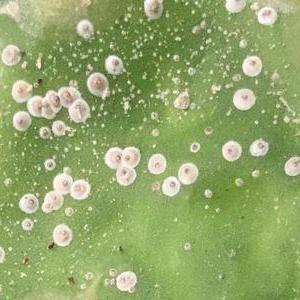Femea: (114, 165, 133, 181), (120, 149, 137, 166), (236, 89, 253, 105), (246, 57, 259, 77), (224, 144, 240, 160), (12, 115, 30, 129), (44, 194, 64, 206), (57, 175, 73, 190), (179, 167, 193, 183), (283, 159, 299, 173), (258, 10, 273, 24), (163, 177, 178, 191), (22, 197, 37, 211), (152, 156, 164, 173), (107, 150, 120, 164), (107, 59, 120, 71), (38, 128, 53, 138), (253, 141, 264, 154), (14, 84, 25, 97), (78, 24, 90, 34), (43, 160, 55, 168)
Linfa: (154, 87, 166, 100), (83, 62, 97, 72), (164, 85, 178, 95), (121, 102, 132, 113), (109, 84, 121, 94), (73, 63, 83, 73), (139, 71, 149, 81), (120, 13, 131, 21), (78, 53, 90, 60), (112, 17, 121, 25), (150, 51, 159, 59), (64, 60, 74, 67), (270, 114, 277, 124), (141, 32, 147, 43), (121, 95, 132, 101), (146, 34, 153, 43), (90, 138, 97, 147), (71, 145, 81, 151), (204, 38, 211, 46), (164, 51, 172, 58), (135, 86, 142, 94), (96, 36, 103, 43), (96, 46, 103, 53), (130, 53, 137, 60), (71, 51, 77, 59), (136, 50, 142, 58), (131, 39, 139, 45), (92, 54, 98, 61), (86, 46, 92, 53), (204, 27, 211, 33), (252, 118, 259, 123), (126, 78, 131, 85), (132, 45, 141, 48)
Macho: (33, 53, 42, 68)
